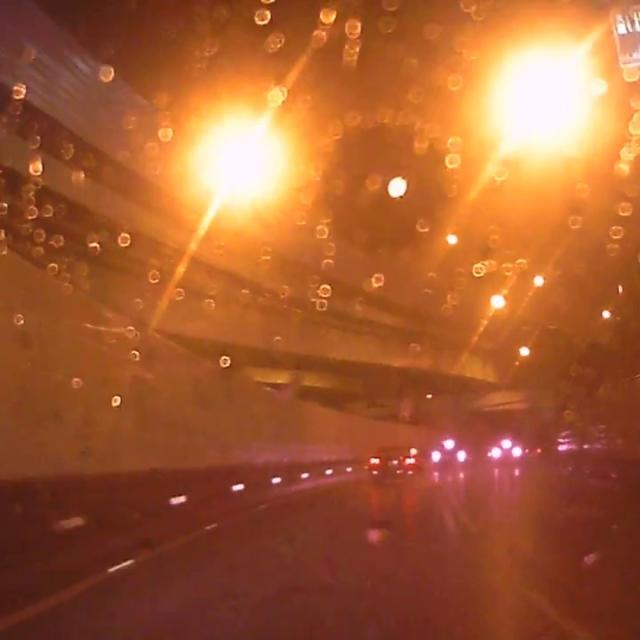Car: (363, 448, 423, 481)
